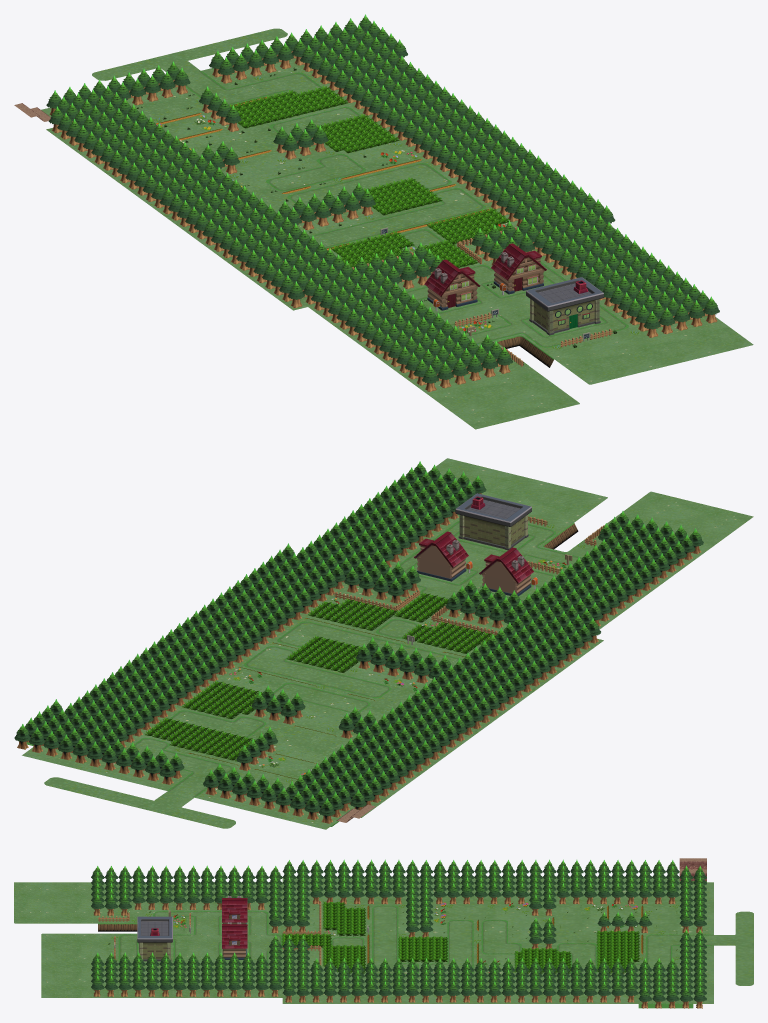
The model's file is pallet_rota1.glb.
3 views of the same model, one above another, from view 1: azimuth 30°, elevation 25°; view 2: azimuth 150°, elevation 25°; view 3: azimuth 270°, elevation 25° (orthographic). The views are drawn at different scales.
Visible parts, largest first — view 1: 1haolu_floor, xinshoucun_floor, SM_T_001_House_01 (×2), polySurface6; view 2: 1haolu_floor, xinshoucun_floor, SM_T_001_House_01 (×2), polySurface6; view 3: 1haolu_floor, xinshoucun_floor, SM_T_001_House_01 (×2), polySurface6.
Boxes of the visible parts, <box> form: 1haolu_floor: <box>41,28,616,310</box>; xinshoucun_floor: <box>308,251,753,429</box>; SM_T_001_House_01 (×2): <box>424,243,546,310</box>; polySurface6: <box>526,277,603,335</box>; 1haolu_floor: <box>22,582,603,829</box>; xinshoucun_floor: <box>389,458,753,629</box>; SM_T_001_House_01 (×2): <box>414,531,533,596</box>; polySurface6: <box>455,493,531,550</box>; 1haolu_floor: <box>282,876,753,1003</box>; xinshoucun_floor: <box>14,882,282,997</box>; SM_T_001_House_01 (×2): <box>222,896,247,959</box>; polySurface6: <box>137,916,172,961</box>.
Size of what is drawn, in the model's own units: 48.07 by 5.6 by 108.
Materials: 37 (36 with a texture image).
